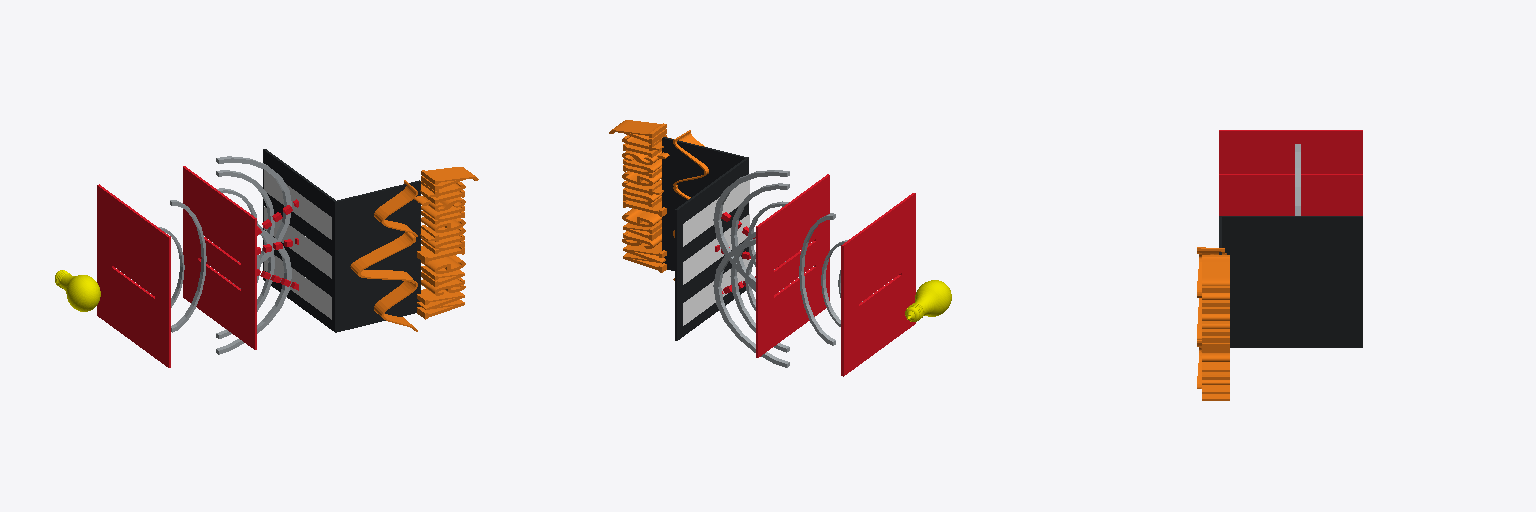
The model's file is tinker.obj.
3 views of the same model, side by side, from view 1: azimuth 30°, elevation 25°; view 2: azimuth 150°, elevation 25°; view 3: azimuth 270°, elevation 25° (orthographic).
Visible parts, largest first — view 1: obj_0; view 2: obj_0; view 3: obj_0.
Part boxes in pixels (x1,y1,x2,y2): obj_0: (55,149,478,367); obj_0: (609,120,951,376); obj_0: (1197,130,1362,400).
Bounding box in the file's own units: 150 × 76 × 58.92.